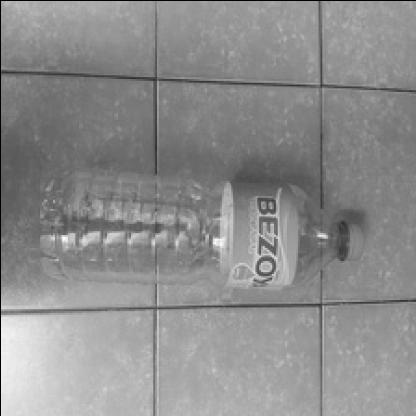plastic_bottles: (26, 164, 368, 288)
